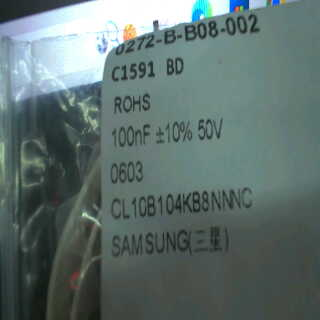100nF: (101, 120, 154, 154)
